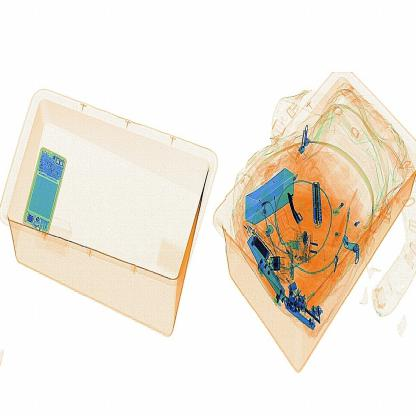scissors: (314, 180, 325, 228)
